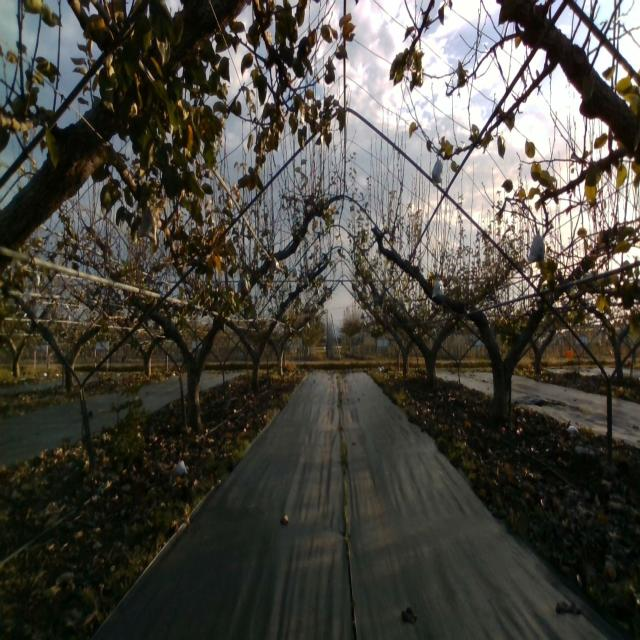pearbags: (137, 204, 157, 246), (528, 229, 546, 265), (432, 154, 444, 186), (237, 275, 251, 299), (432, 278, 444, 298)
